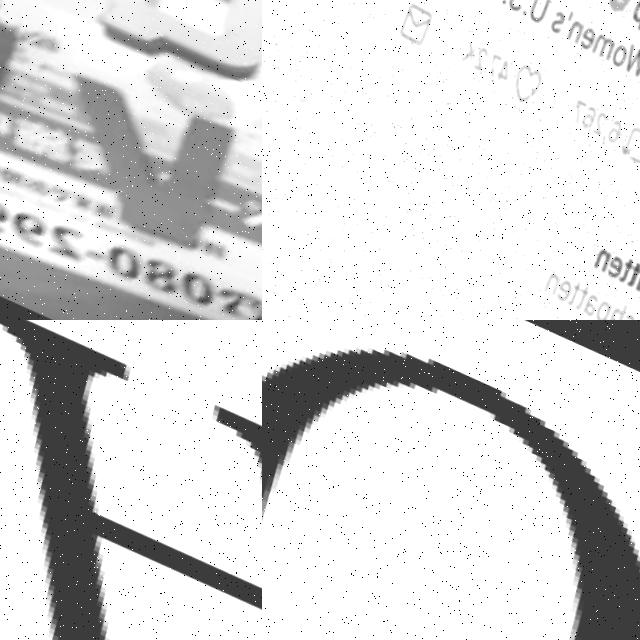2: (467, 35, 490, 67), (584, 97, 607, 129)
4: (491, 48, 514, 80)
6: (598, 105, 624, 138), (574, 92, 597, 124)
7: (478, 41, 504, 74), (562, 86, 588, 118)
O: (262, 341, 640, 640)
Q: (68, 0, 262, 94)
V: (14, 50, 247, 259)
